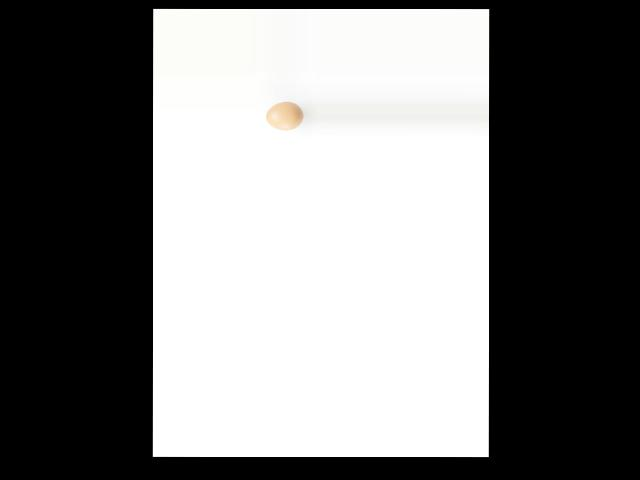egg: (265, 101, 304, 129)
